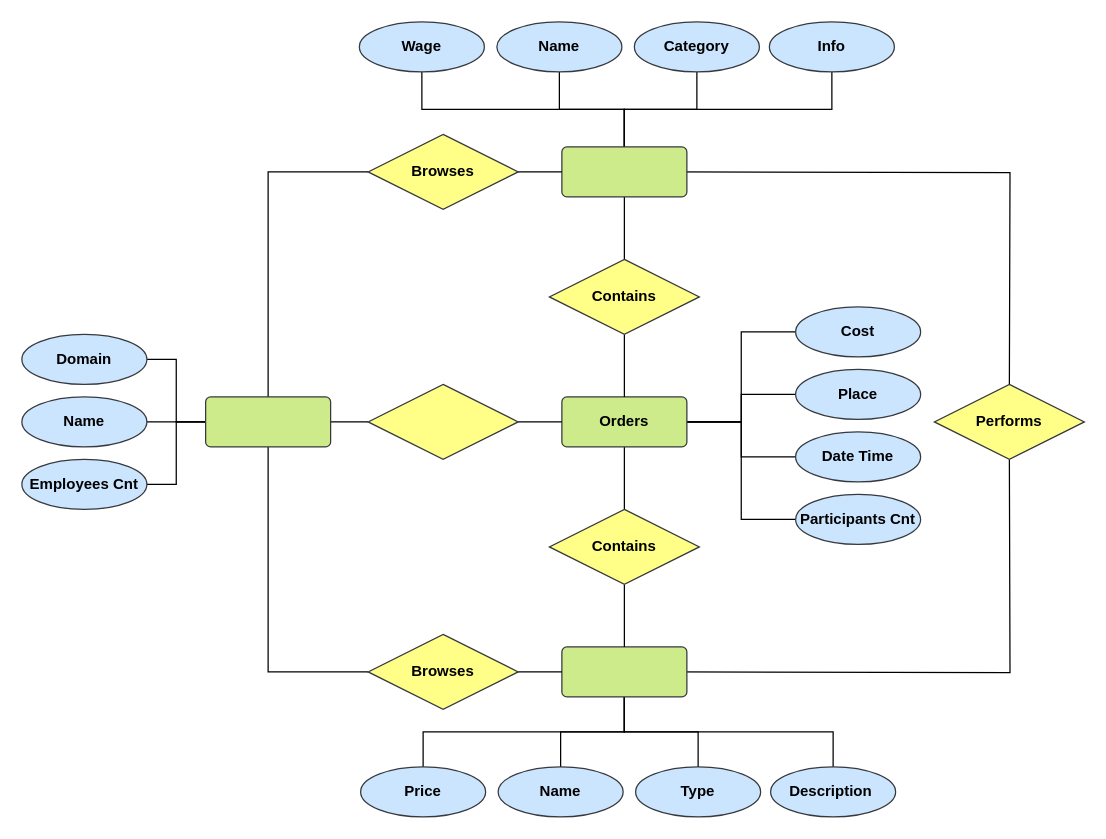
Image size: 1106x839. Some labels were removed from this diagram. The box of each missing label's shape, as (x1, y1, x2, y2) in pixels:
Coach: (561, 146, 687, 197)
Customer: (204, 396, 331, 447)
Makes: (367, 383, 518, 459)
Service: (561, 646, 687, 697)
